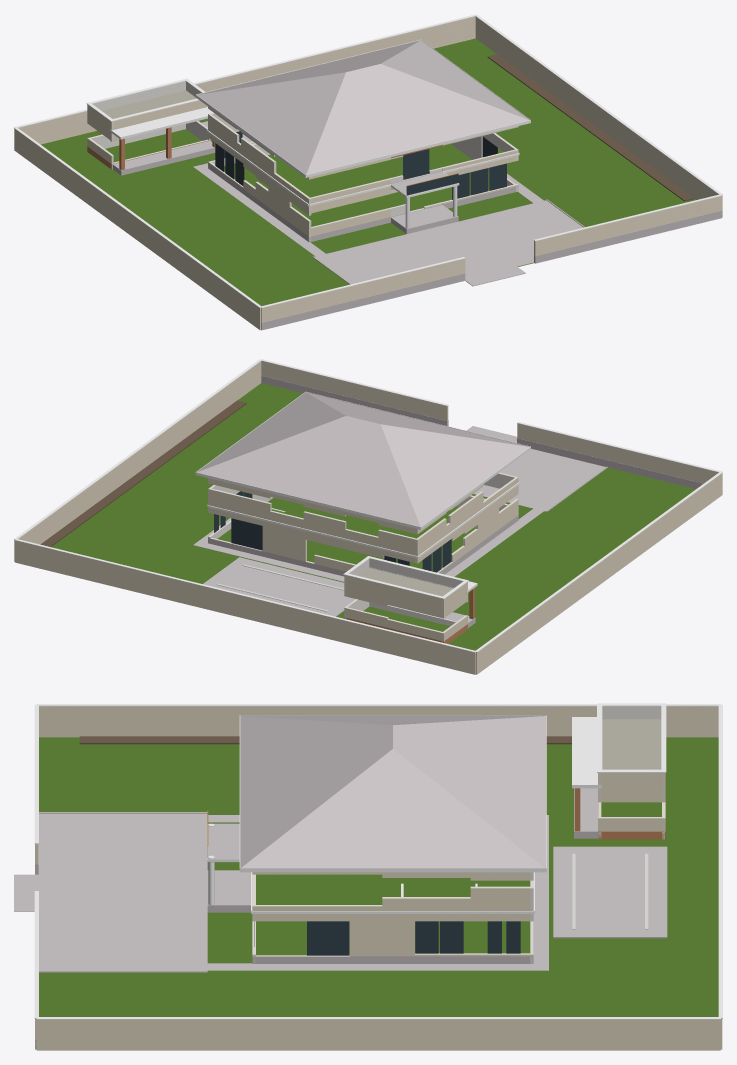
The model's file is est_S5_lod1.glb.
3 views of the same model, one above another, from view 1: azimuth 30°, elevation 25°; view 2: azimuth 150°, elevation 25°; view 3: azimuth 270°, elevation 25° (orthographic). The views are drawn at different scales.
Visible parts, largest first — view 1: GR_est_S5_lod1; view 2: GR_est_S5_lod1; view 3: GR_est_S5_lod1.
Boxes of the visible parts, x1,y1,x2,y2 form: GR_est_S5_lod1: [14, 14, 722, 330]; GR_est_S5_lod1: [14, 359, 722, 674]; GR_est_S5_lod1: [14, 703, 722, 1050].
Size of the model in its own units: 52.31 by 13.55 by 49.76.
Materials: 3 (1 with a texture image).
